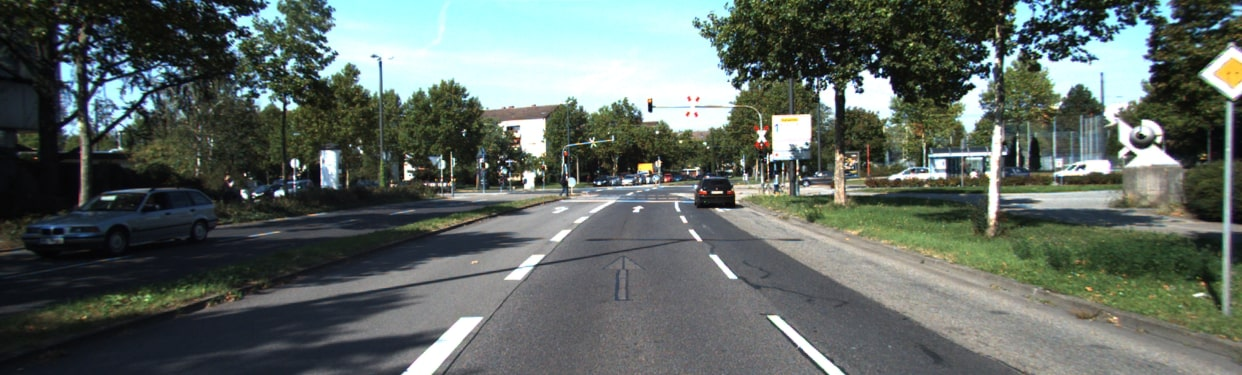car: (19, 180, 226, 277), (690, 177, 737, 208)
person: (556, 168, 571, 199)
